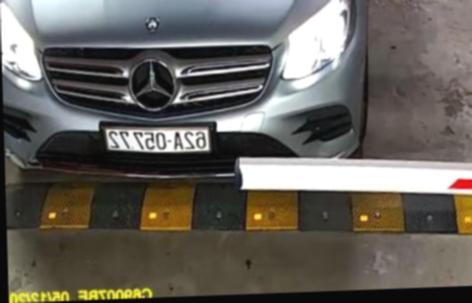License_Plate: (94, 116, 218, 162)
